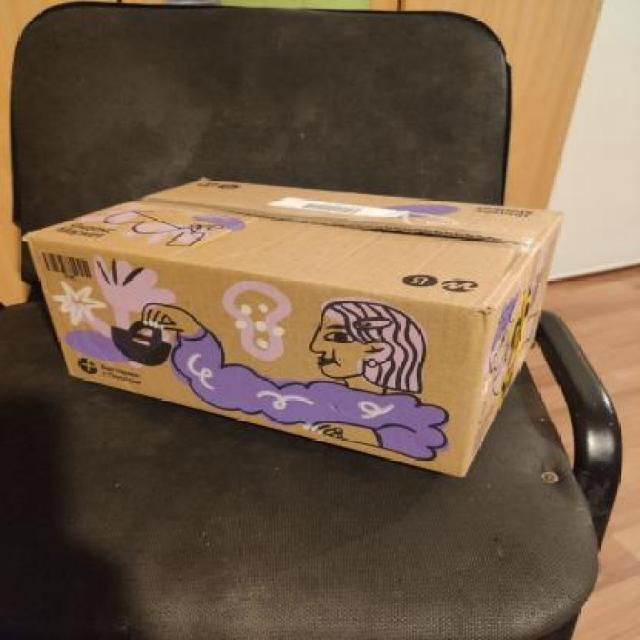box: (18, 174, 570, 482)
